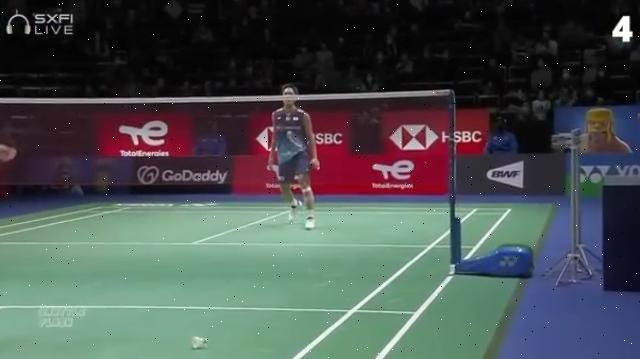Shuttlecock: (184, 328, 212, 352)
